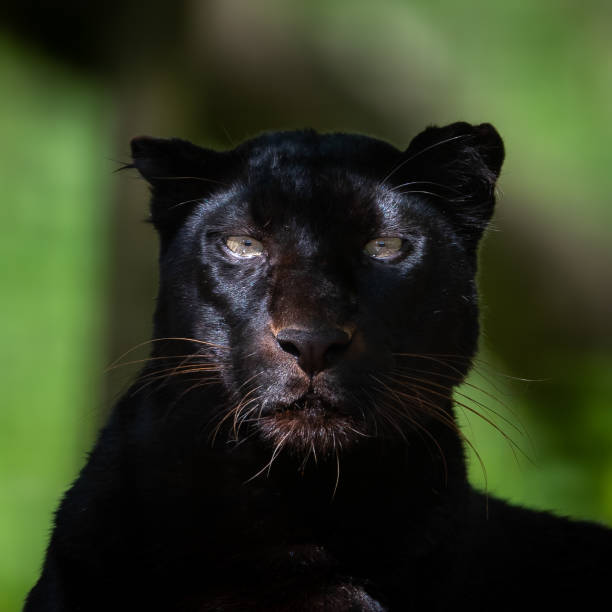panther: (87, 100, 544, 525)
